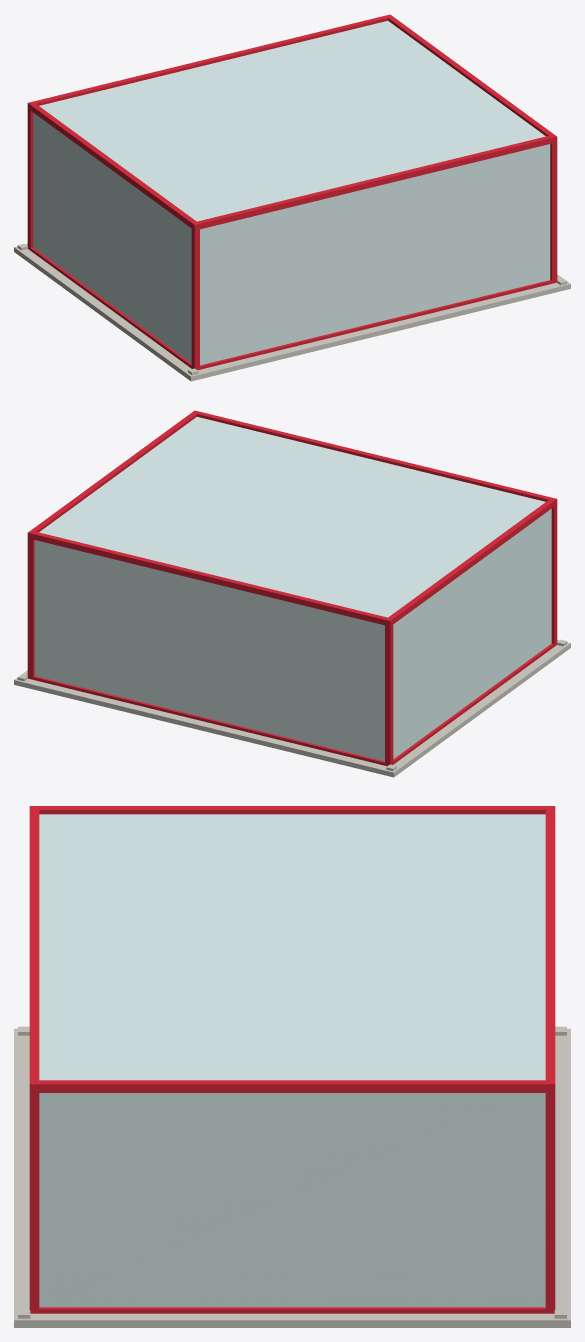
File: apache-ah-64-helicopter.glb
3 views of the same model, one above another, from view 1: azimuth 30°, elevation 25°; view 2: azimuth 150°, elevation 25°; view 3: azimuth 270°, elevation 25° (orthographic). The views are drawn at different scales.
Bounding box in the file's own units: 0.503 × 0.1905 × 0.406.
